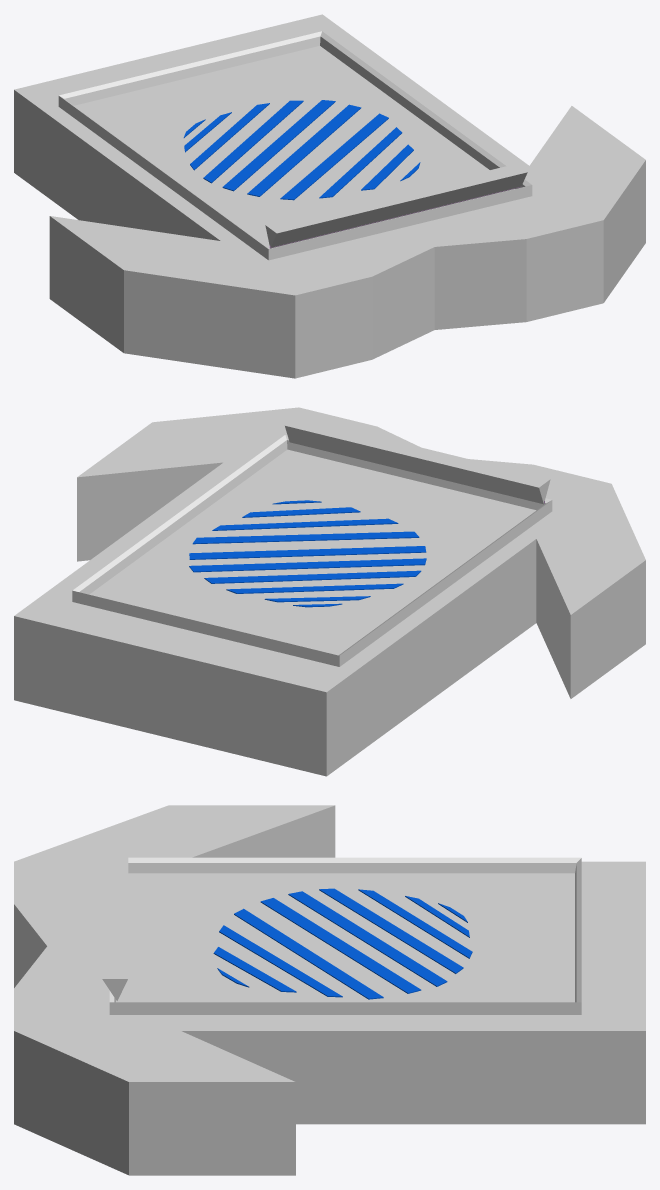
Rendered from blend5.gltf.
3 renders of one model, top to bottom at view 1: azimuth 30°, elevation 25°; view 2: azimuth 150°, elevation 25°; view 3: azimuth 270°, elevation 25°, orthographic. The views are drawn at different scales.
Visible parts, largest first — view 1: Cube.001, Cube, Cube.002, Cube.021, Cube.012, Cube.020, Cube.017, Cube.019, Cube.016, Cube.018; view 2: Cube.001, Cube, Cube.002, Cube.021, Cube.012, Cube.020, Cube.017, Cube.019, Cube.016, Cube.018; view 3: Cube.001, Cube, Cube.002, Cube.021, Cube.012, Cube.020, Cube.017, Cube.019, Cube.016, Cube.018.
Part boxes in pixels (box(x1,y1,x2,y2)): Cube.001: box(14, 14, 645, 378); Cube: box(58, 31, 532, 260); Cube.002: box(265, 164, 527, 248); Cube.021: box(247, 104, 361, 196); Cube.012: box(222, 100, 335, 191); Cube.020: box(280, 113, 388, 200); Cube.017: box(203, 100, 303, 183); Cube.019: box(319, 127, 402, 198); Cube.016: box(190, 103, 269, 170); Cube.018: box(361, 144, 413, 190); Cube.001: box(14, 407, 645, 776); Cube: box(72, 435, 552, 666); Cube.002: box(285, 417, 550, 504); Cube.021: box(189, 546, 426, 559); Cube.012: box(189, 558, 426, 572); Cube.020: box(192, 531, 419, 544); Cube.017: box(204, 570, 421, 583); Cube.019: box(212, 518, 398, 530); Cube.016: box(226, 583, 403, 593); Cube.018: box(242, 507, 360, 517); Cube.001: box(14, 805, 645, 1175); Cube: box(109, 857, 581, 1014); Cube.002: box(102, 841, 128, 1000); Cube.021: box(260, 898, 421, 993); Cube.012: box(288, 891, 447, 986); Cube.020: box(234, 908, 383, 999); Cube.017: box(319, 888, 463, 973); Cube.019: box(219, 925, 342, 997); Cube.016: box(358, 889, 472, 958); Cube.018: box(213, 947, 296, 992).
Size of the model in its own units: 3.47 by 0.7312 by 3.35.
